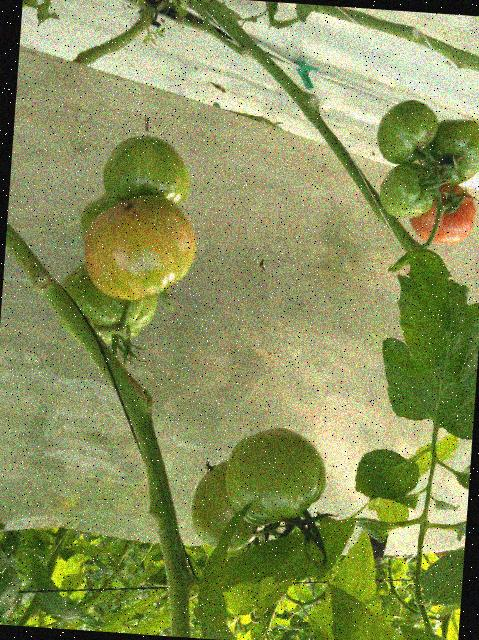b_green: (221, 422, 330, 530), (52, 260, 159, 352), (188, 456, 270, 554), (100, 132, 193, 207), (374, 97, 440, 166), (421, 116, 479, 187), (378, 160, 437, 220), (78, 190, 117, 243)
b_half_ripened: (80, 190, 200, 304), (407, 180, 477, 246)
